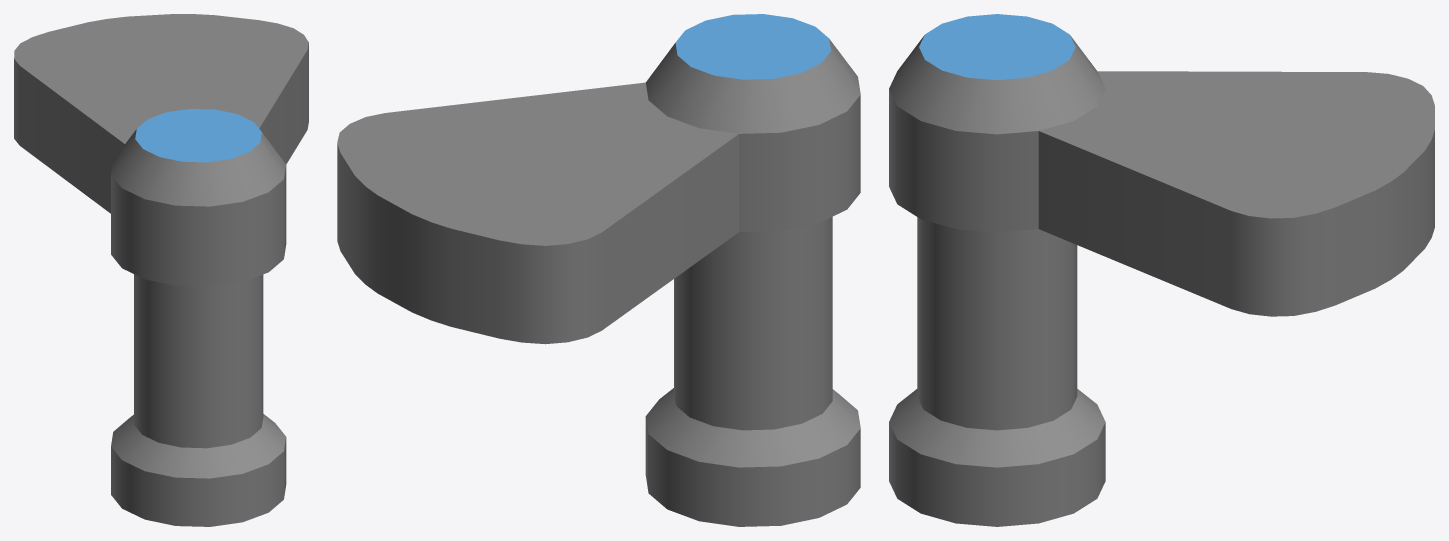
File: valve.fbx
The picture shows the model from 3 angles, left to right: view 1: azimuth 30°, elevation 25°; view 2: azimuth 150°, elevation 25°; view 3: azimuth 270°, elevation 25°; orthographic projection. The views are drawn at different scales.
Visible parts, largest first — view 1: Cylinder.001; view 2: Cylinder.001; view 3: Cylinder.001.
Part boxes in pixels (bbox=[...]): Cylinder.001: bbox=[14, 14, 308, 526]; Cylinder.001: bbox=[337, 14, 860, 526]; Cylinder.001: bbox=[889, 14, 1434, 526].
Size of the model in its own units: 0.0783 by 0.0902 by 0.1028.
